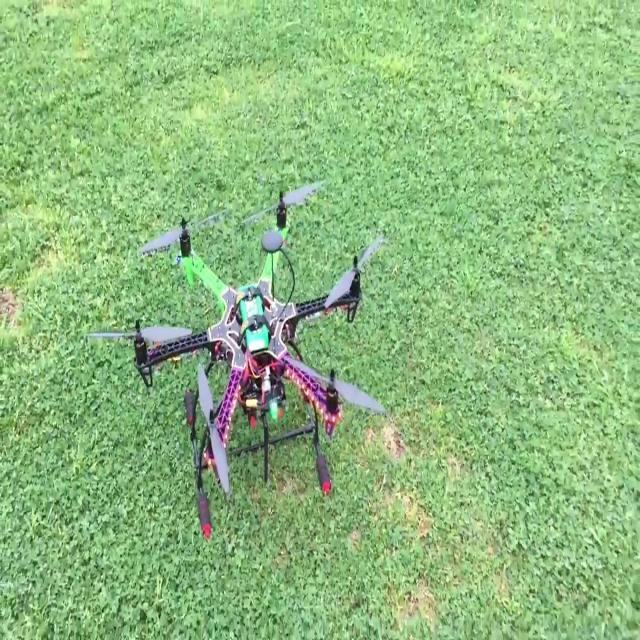drone: (101, 185, 399, 522)
